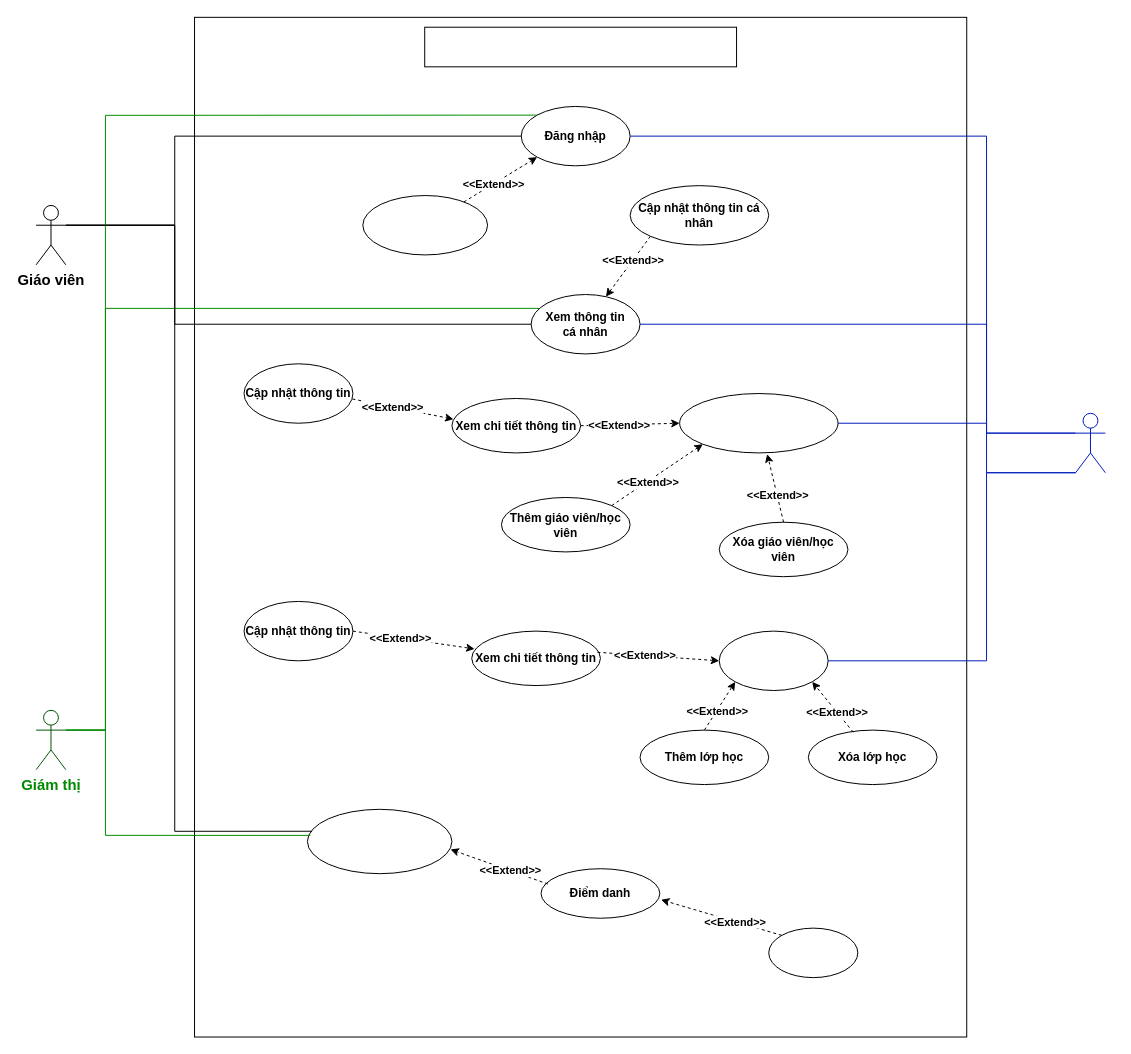
The diagram is 1131 pixels wide and 1054 high, and some of its shapes have lost their labels. Each missing label, with the centre of its shape:
"Admin" goes at point (1090, 442).
"Ghi chú" goes at point (813, 952).
"Quên mật khẩu" goes at point (425, 225).
"Web điểm danh cho trung tâm ngoại ngữ" goes at point (580, 46).
"Xem danh sách giáo viên/học viên" goes at point (758, 423).
"Xem danh sách lớp học" goes at point (773, 660).
"Xem danh sách lớp học phụ trách" goes at point (379, 841).
